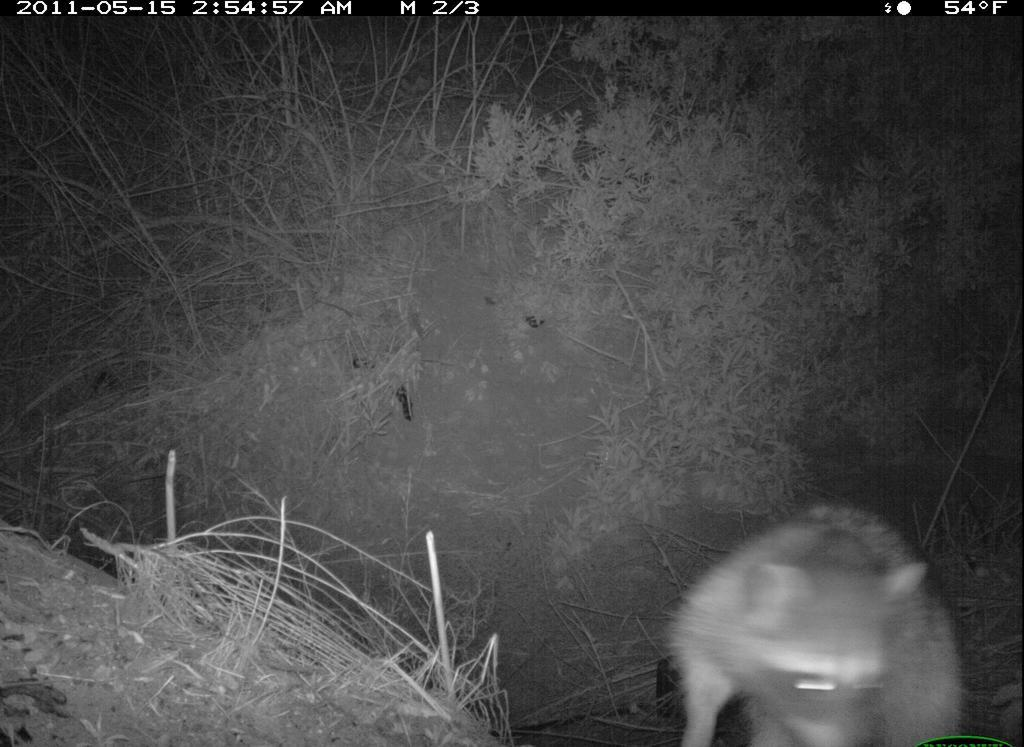raccoon: (633, 479, 976, 747)
